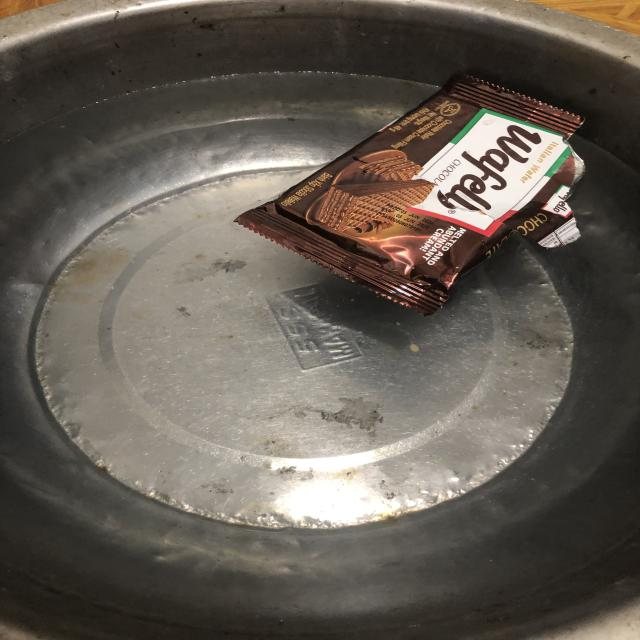Plastic Wrapper: (200, 54, 640, 329)
